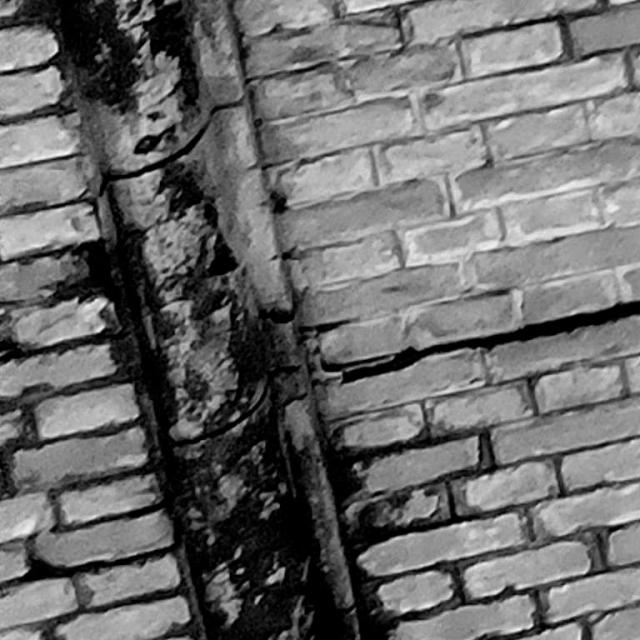crack: (321, 301, 638, 383)
